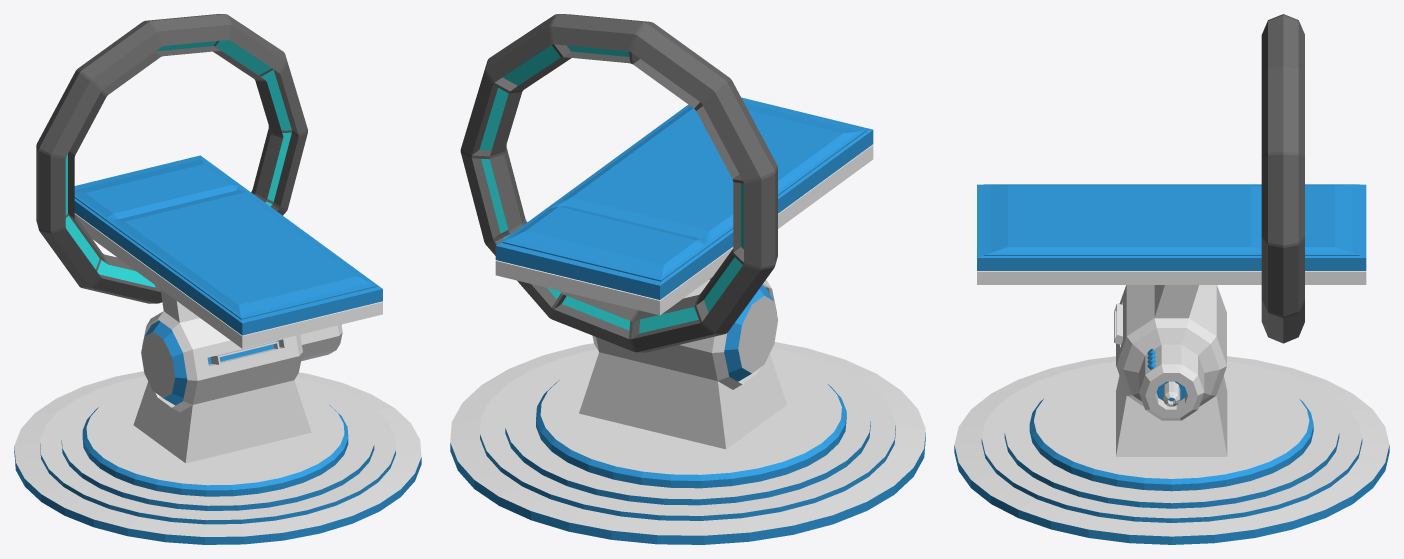
Rendered from medCab For Unity.fbx.
3 renders of one model, left to right at view 1: azimuth 30°, elevation 25°; view 2: azimuth 150°, elevation 25°; view 3: azimuth 270°, elevation 25°, orthographic. The views are drawn at different scales.
Visible parts, largest first — view 1: Cylinder.005, Torus; view 2: Cylinder.005, Torus; view 3: Cylinder.005, Torus.
Part boxes in pixels (left/top/right/bottom): Cylinder.005: left=14, top=155, right=421, bottom=544; Torus: left=36, top=14, right=307, bottom=303; Cylinder.005: left=450, top=97, right=925, bottom=544; Torus: left=460, top=14, right=777, bottom=352; Cylinder.005: left=954, top=184, right=1389, bottom=544; Torus: left=1261, top=14, right=1304, bottom=343.
Size of the model in its own units: 600 by 655 by 600.
